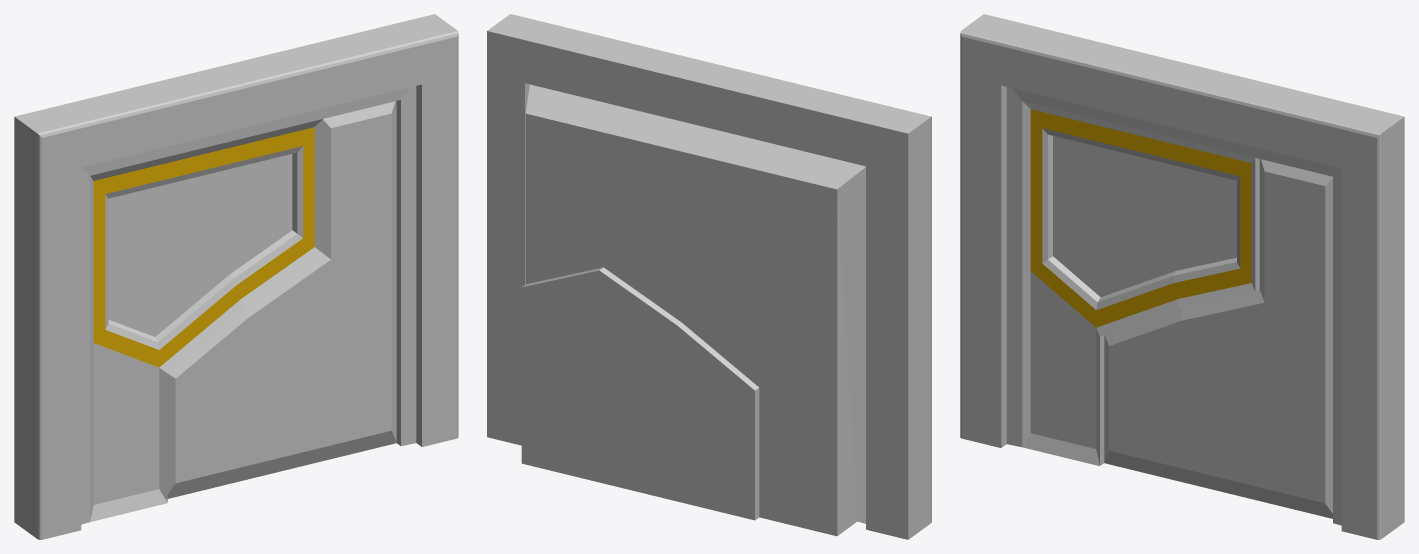
File: SpaceShipBlastDoorLOWTEXTURE.glb
3 renders of one model, left to right at view 1: azimuth 30°, elevation 25°; view 2: azimuth 150°, elevation 25°; view 3: azimuth 330°, elevation 25°, orthographic.
Visible parts, largest first — view 1: SHIP.002; view 2: SHIP.002; view 3: SHIP.002.
Part boxes in pixels (bbox=[...]): SHIP.002: bbox=[14, 14, 458, 539]; SHIP.002: bbox=[487, 14, 931, 539]; SHIP.002: bbox=[960, 14, 1404, 539].
Bounding box in the file's own units: 2.53 × 2.33 × 0.4506.
